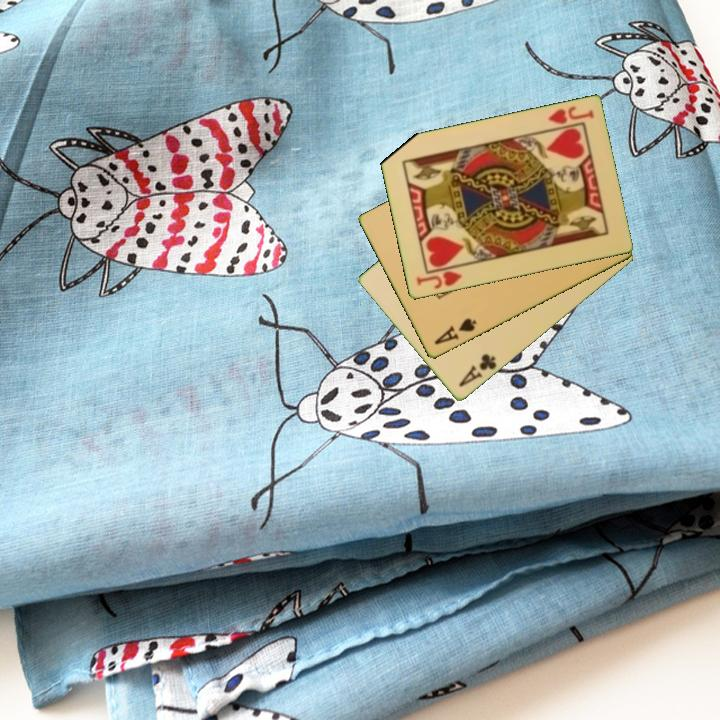Ac: (455, 350, 499, 390)
As: (430, 315, 480, 348)
Jh: (544, 103, 596, 128), (413, 268, 465, 292)
